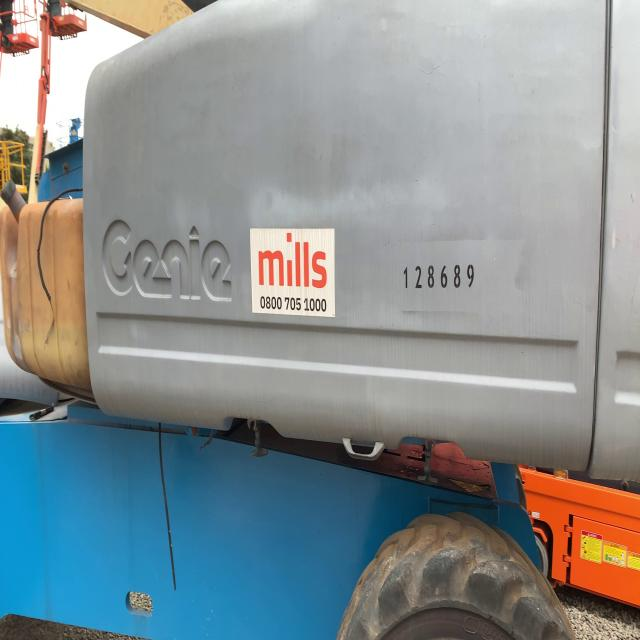Adesivos: (249, 226, 338, 318)
